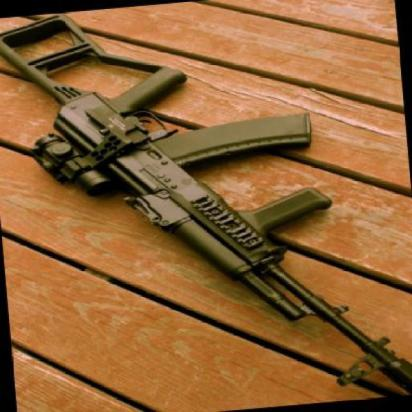Gun: (0, 18, 412, 412)
